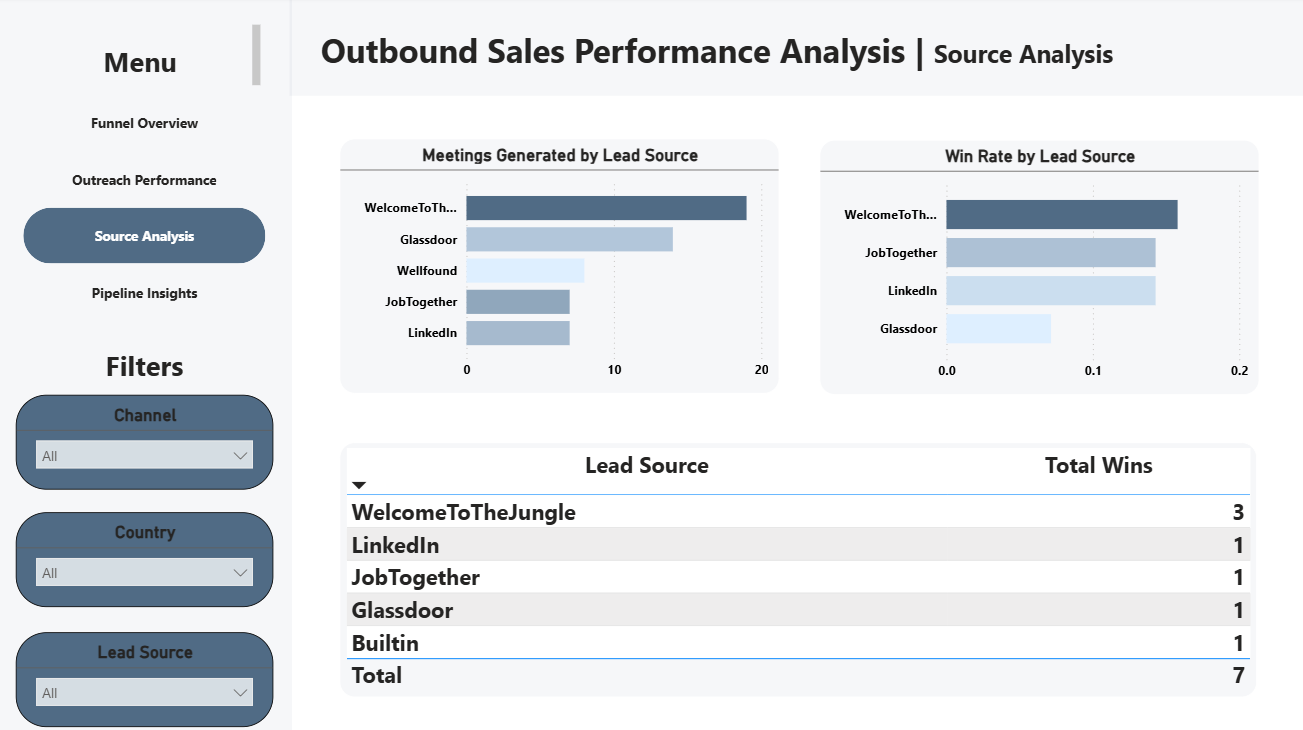

This screenshot's page, from the dashboard's own definition file:
{"tool":"powerbi","page":{"name":"Source Analysis","canvas":[1280,720],"ordinal":2},"visuals":[{"type":"tableEx","fields":{"Values":["outbound_sales leads_master.lead_source","outbound_sales lead_funnel_status.Total Wins"]},"box":[335.1,436.6,897.6,249.5],"z":0},{"type":"barChart","title":"Meetings Generated by Lead Source","fields":{"Category":["outbound_sales leads_master.lead_source"],"Y":["outbound_sales lead_funnel_status.Total Meetings"]},"box":[335.1,139.4,430.4,249.5],"z":2000},{"type":"barChart","title":"Win Rate by Lead Source","fields":{"Category":["outbound_sales leads_master.lead_source"],"Y":["outbound_sales lead_funnel_status.Win Rate %"]},"box":[804.6,140.6,430.4,249.5],"z":3000},{"type":"shape","box":[0,0,288.6,720.2],"z":4000},{"type":"slicer","title":"Country","fields":{"Values":["outbound_sales leads_master.country"]},"box":[18.3,505,251.9,92.9],"z":5000},{"type":"slicer","title":"Lead Source","fields":{"Values":["outbound_sales leads_master.lead_source"]},"box":[18.3,622.4,251.9,92.9],"z":6000},{"type":"slicer","title":"Channel","fields":{"Values":["outbound_sales outreach_activity.channel"]},"box":[18.3,390.1,251.9,92.9],"z":7000},{"type":"pageNavigator","box":[25.7,97.1,237.1,222.9],"z":8000},{"type":"textbox","box":[25.7,22.9,237.1,74.3],"z":9000},{"type":"textbox","box":[25.7,320,237.1,70],"z":10000},{"type":"shape","box":[286.1,0,991.7,97.8],"z":11000},{"type":"textbox","box":[311.8,8.6,944,74.6],"z":12000}]}

Visuals, with their boxes in screenshot pixels (x1, y1, x2, y2), scaled from the page's 1280x720 canvas onto the 1303x730 screenshot:
tableEx - outbound_sales leads_master.lead_source x outbound_sales lead_funnel_status.Total Wins: crop(341, 443, 1255, 696)
"Meetings Generated by Lead Source" barChart: crop(341, 141, 779, 394)
"Win Rate by Lead Source" barChart: crop(819, 143, 1257, 396)
shape: crop(0, 0, 294, 729)
"Country" slicer: crop(19, 512, 275, 606)
"Lead Source" slicer: crop(19, 631, 275, 725)
"Channel" slicer: crop(19, 396, 275, 490)
pageNavigator: crop(26, 98, 268, 324)
textbox: crop(26, 23, 268, 99)
textbox: crop(26, 324, 268, 395)
shape: crop(291, 0, 1301, 99)
textbox: crop(317, 9, 1278, 84)
